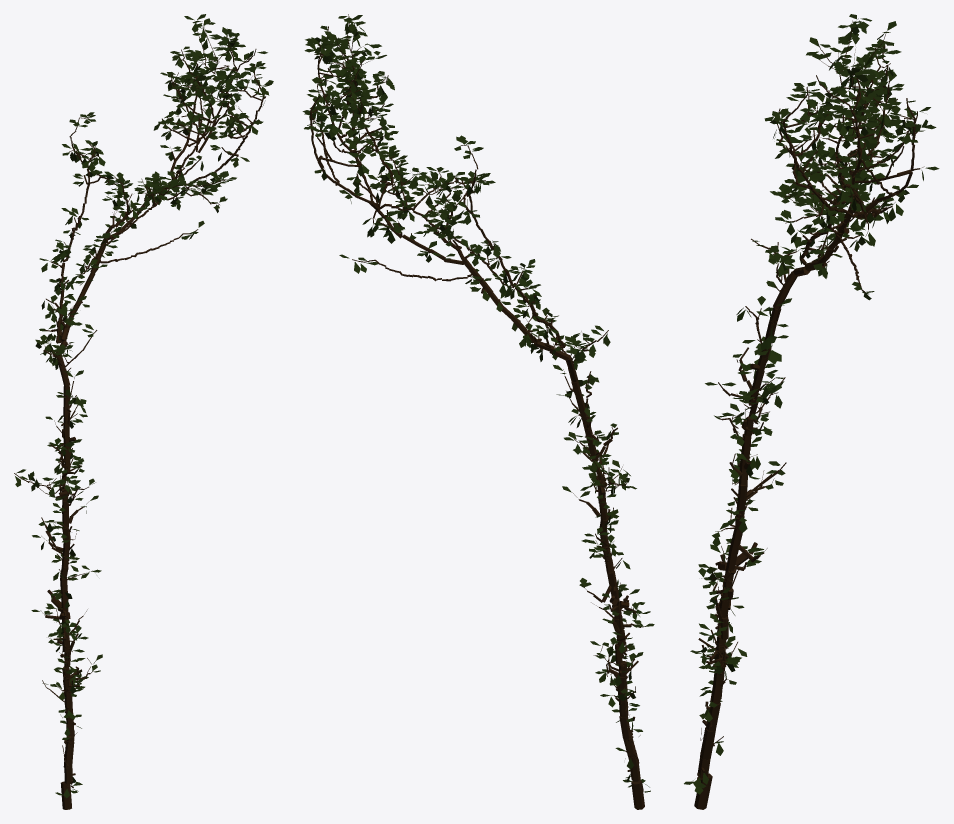
The model's file is tree_204.obj.
The picture shows the model from 3 angles, left to right: view 1: azimuth 30°, elevation 25°; view 2: azimuth 150°, elevation 25°; view 3: azimuth 270°, elevation 25°; orthographic projection. The views are drawn at different scales.
Visible parts, largest first — view 1: Leaves, TrunkAndBranches; view 2: Leaves, TrunkAndBranches; view 3: Leaves, TrunkAndBranches.
Boxes of the visible parts, bbox=[...] form: Leaves: bbox=[15, 14, 273, 798]; TrunkAndBranches: bbox=[14, 21, 265, 809]; Leaves: bbox=[302, 15, 654, 792]; TrunkAndBranches: bbox=[310, 14, 645, 809]; Leaves: bbox=[684, 14, 939, 794]; TrunkAndBranches: bbox=[694, 18, 924, 809].
Size of the model in its own units: 7.81 by 19.3 by 4.89.
